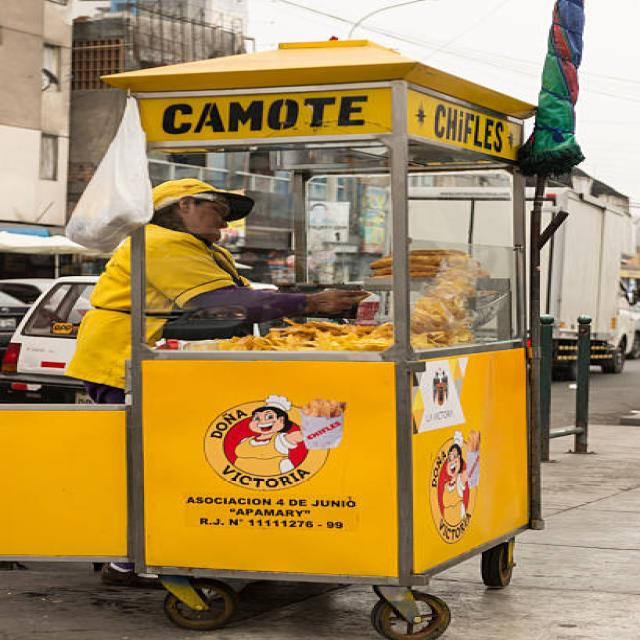Emperan: (48, 0, 602, 640)
